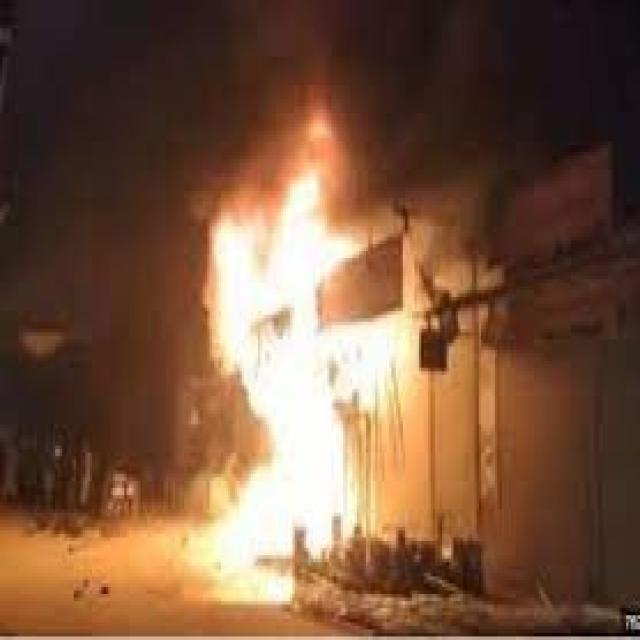fire: (179, 102, 417, 606)
